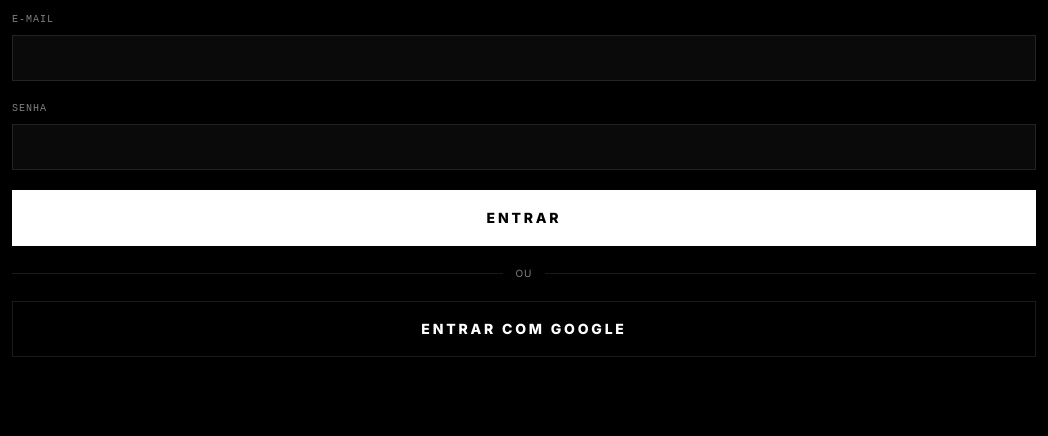
Test case: SignInForm › mostra o erro do servidor e não navega
This screenshot has width=1048, height=436.
Type " ana@b.com " into the field labelled "E-mail" at x=524, y=58, box [12, 35, 1036, 81]
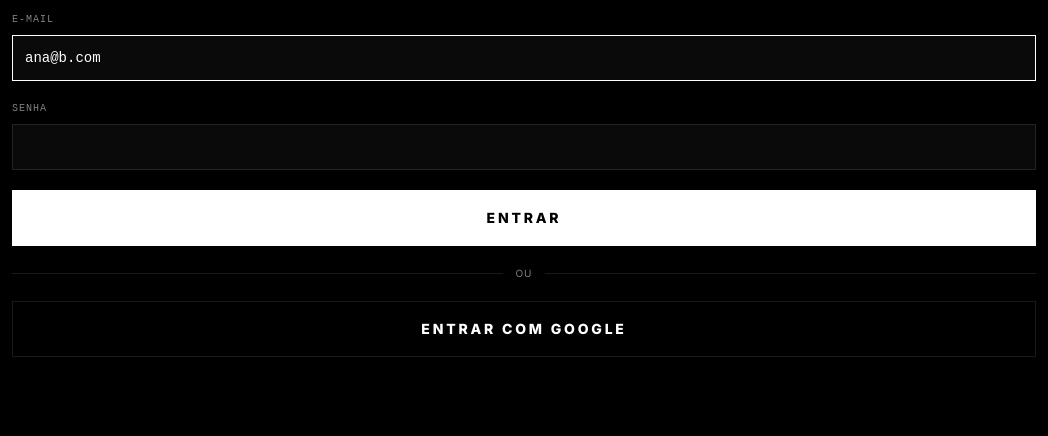
Type "segredo123" into the password field labelled "Senha" at x=524, y=147, box [12, 124, 1036, 170]
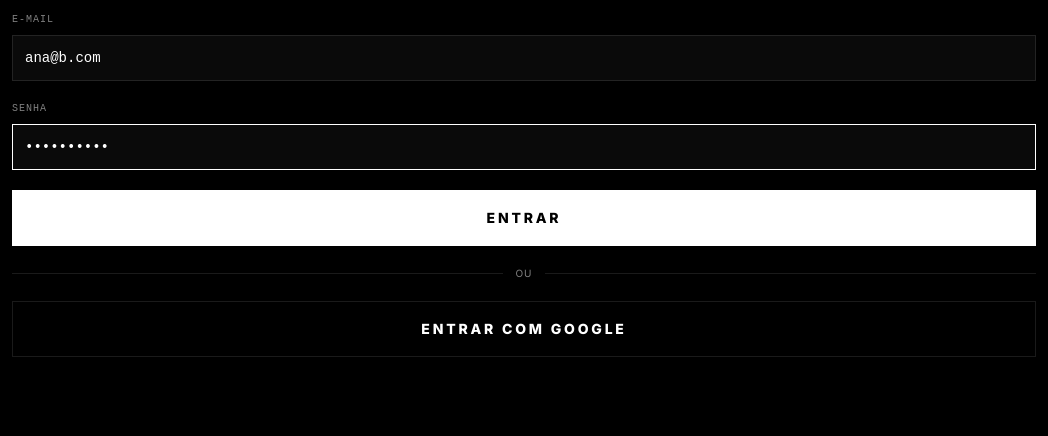
Click the button "Entrar" at x=524, y=218, box [12, 190, 1036, 246]
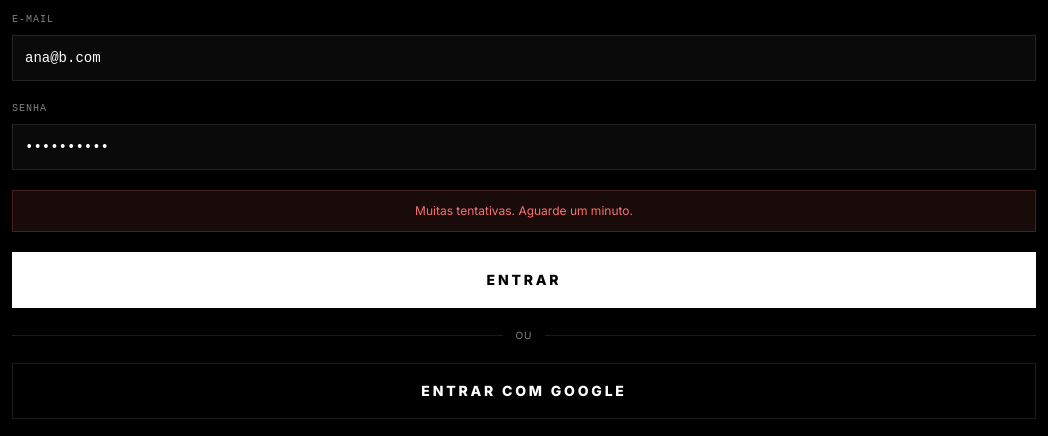
Check: the message reads "Muitas tentativas. Aguarde um minuto.", box [415, 203, 633, 218]
